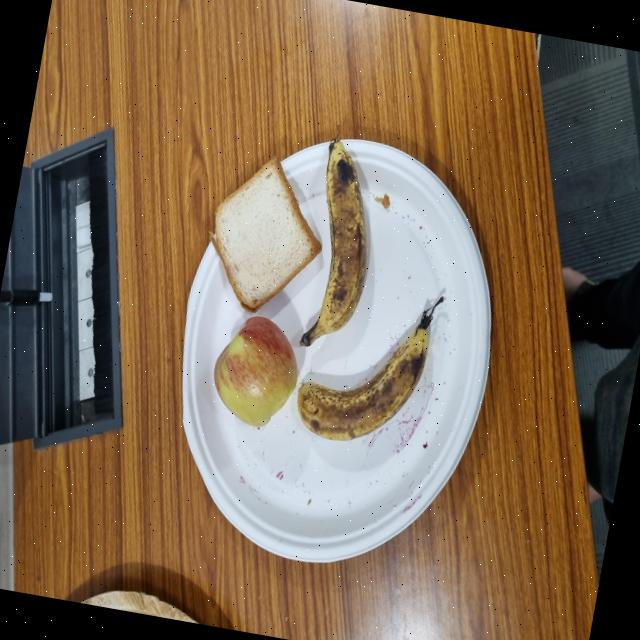apple: (144, 276, 233, 392)
banana: (126, 389, 225, 564), (202, 391, 348, 469)
